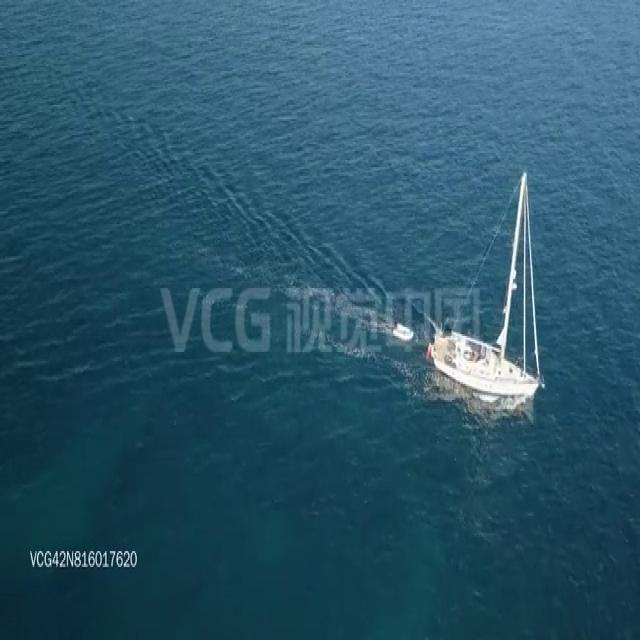houseboat: (392, 321, 414, 344)
sailboat: (432, 172, 547, 400)
